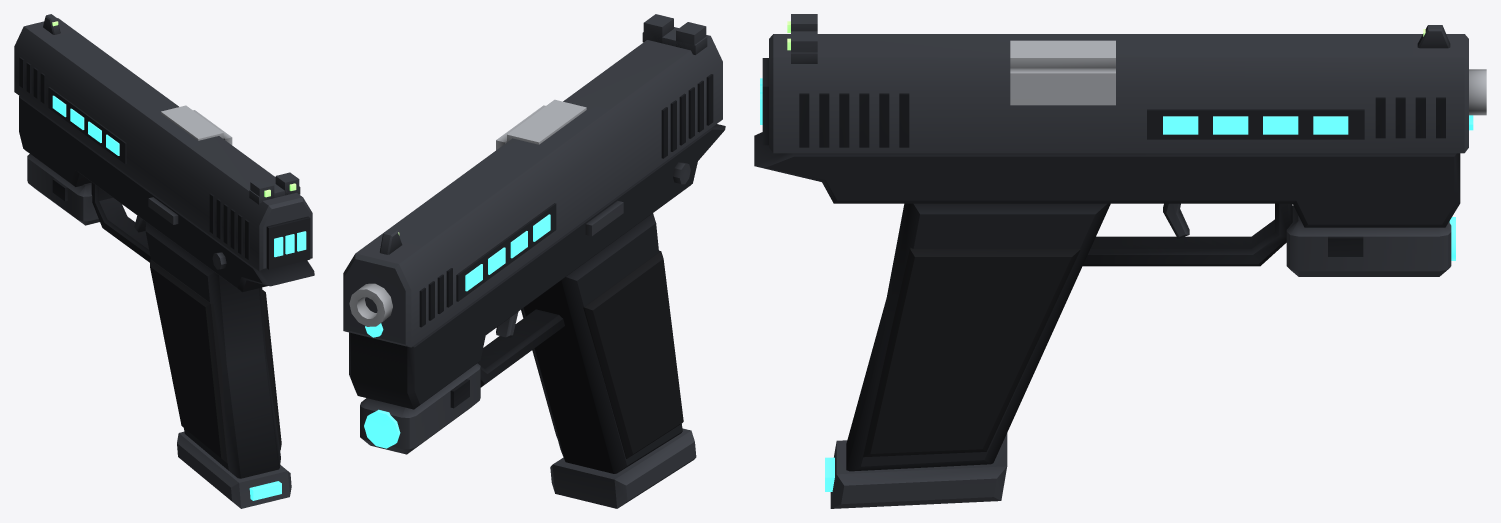
Rendered from pistol.glb.
The picture shows the model from 3 angles, left to right: view 1: azimuth 30°, elevation 25°; view 2: azimuth 150°, elevation 25°; view 3: azimuth 270°, elevation 25°; orthographic projection. The views are drawn at different scales.
Parts seen in each view (by area): view 1: Pistol; view 2: Pistol; view 3: Pistol.
Part boxes in pixels (x1,y1,x2,y2): Pistol: (14,14,314,508); Pistol: (343,14,725,508); Pistol: (754,14,1486,508).
Bounding box in the file's own units: 0.0351 × 0.1745 × 0.249.
